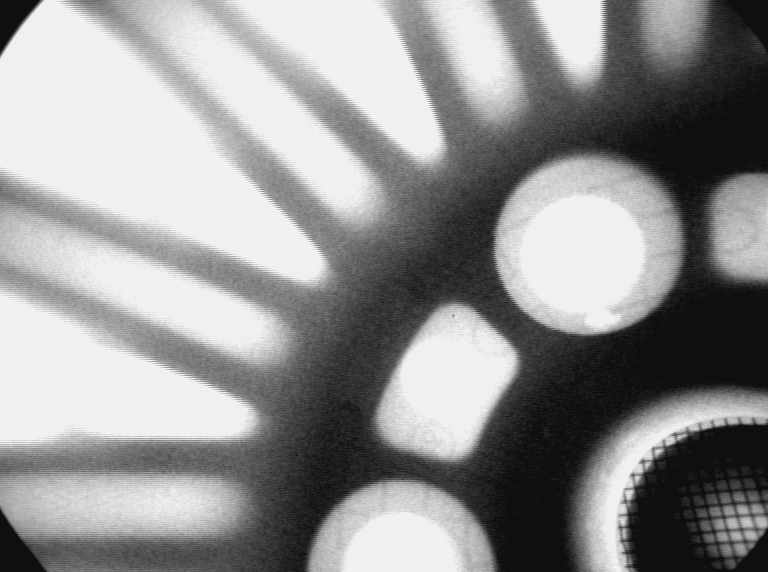defect: (584, 305, 626, 335)
